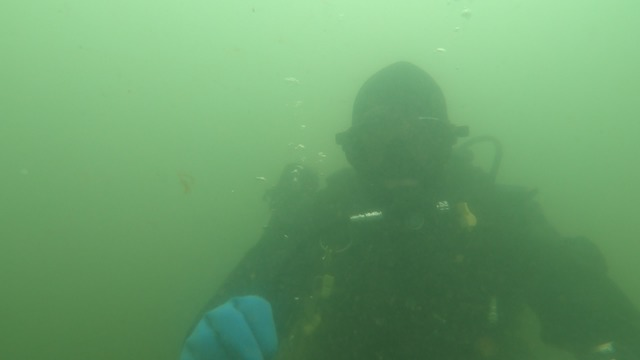Hand: (179, 291, 284, 356)
Head: (347, 63, 465, 231)
